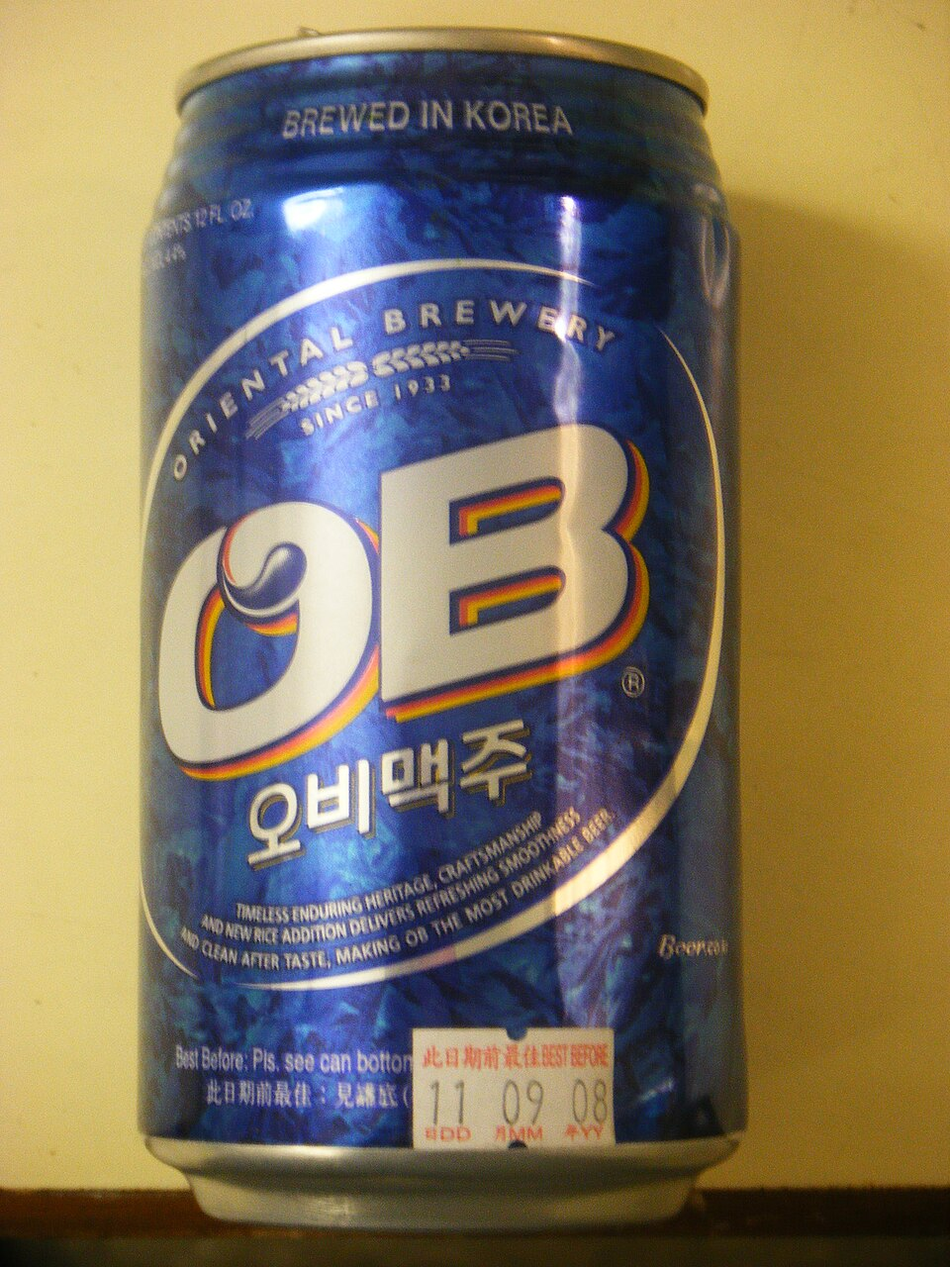beer-can: (120, 16, 752, 1222)
